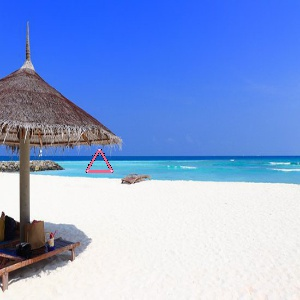triangle: (82, 146, 115, 176)
